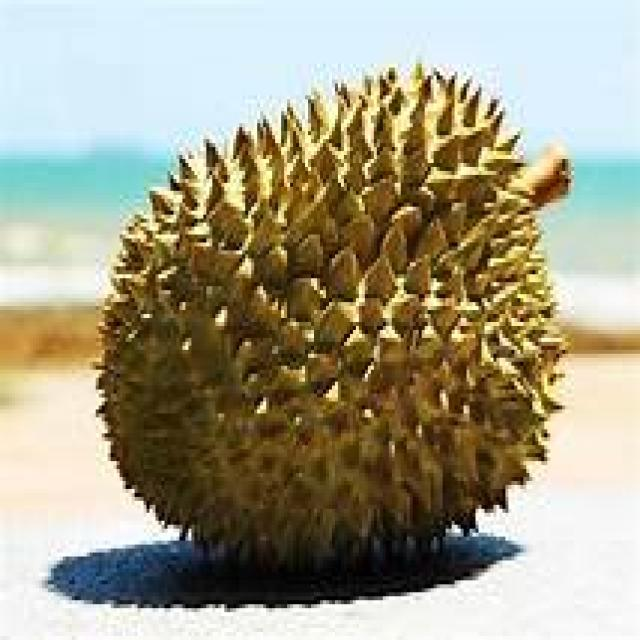mature: (99, 70, 571, 569)
